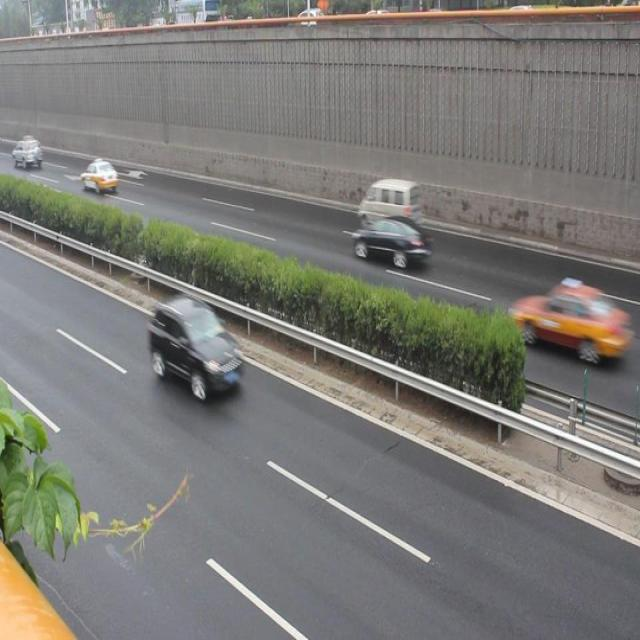car: (148, 293, 246, 399), (503, 267, 610, 364), (352, 212, 429, 274)
truck: (352, 174, 424, 233)
